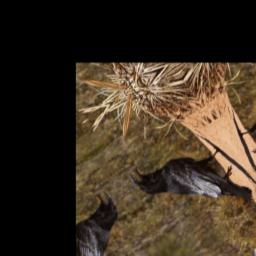Crow: (127, 123, 256, 249)
